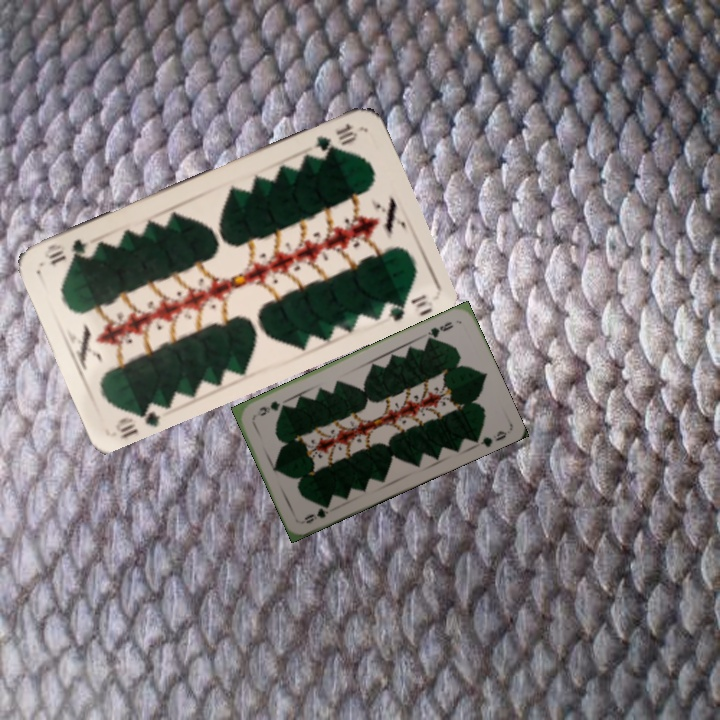G10: (111, 398, 164, 441), (309, 119, 361, 154)
G9: (300, 499, 333, 526), (423, 317, 456, 343)
